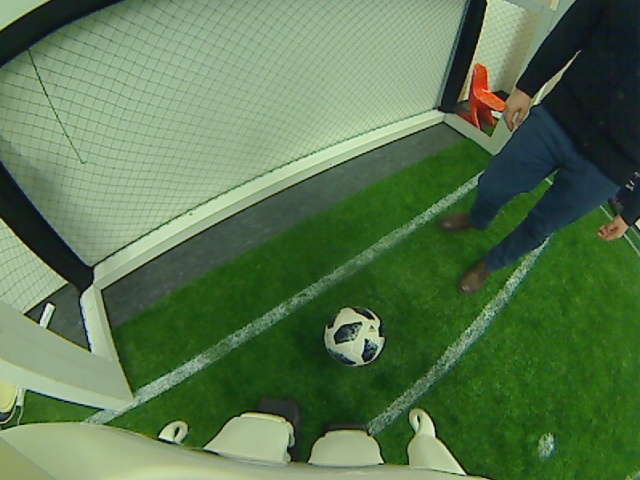ball: (324, 303, 385, 371)
